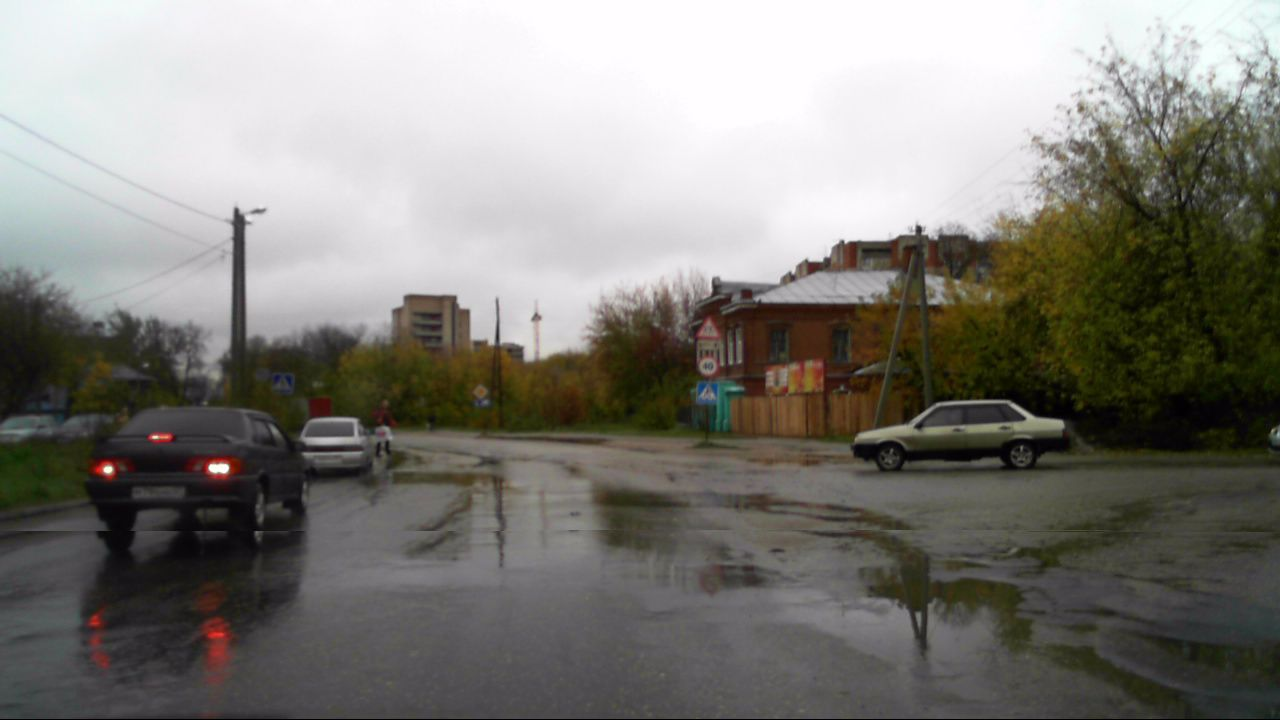speed_warning_40: (697, 356, 717, 376)
